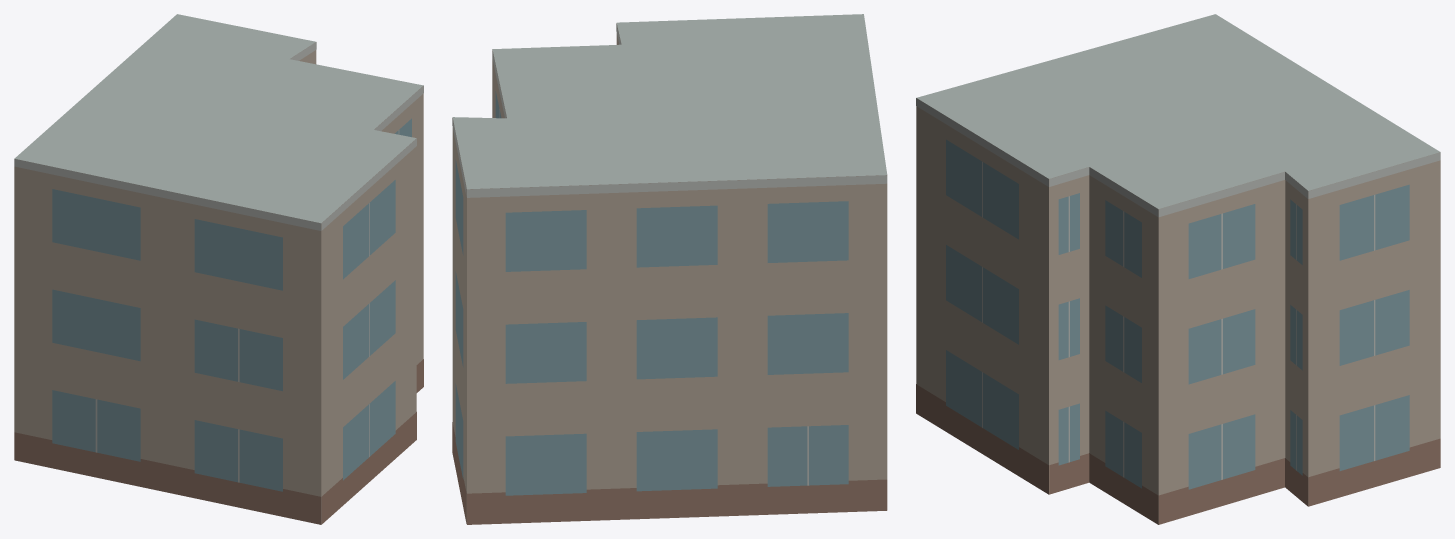
File: survey-upis-32729612.glb
The picture shows the model from 3 angles, left to right: view 1: azimuth 30°, elevation 25°; view 2: azimuth 150°, elevation 25°; view 3: azimuth 270°, elevation 25°; orthographic projection. The views are drawn at different scales.
Visible parts, largest first — view 1: survey-upis-32729612.tmp; view 2: survey-upis-32729612.tmp; view 3: survey-upis-32729612.tmp.
Part boxes in pixels (bbox=[...]): survey-upis-32729612.tmp: bbox=[14, 14, 423, 524]; survey-upis-32729612.tmp: bbox=[452, 14, 887, 524]; survey-upis-32729612.tmp: bbox=[916, 14, 1440, 524].
Bounding box in the file's own units: 12.47 × 9.4 × 14.16.
